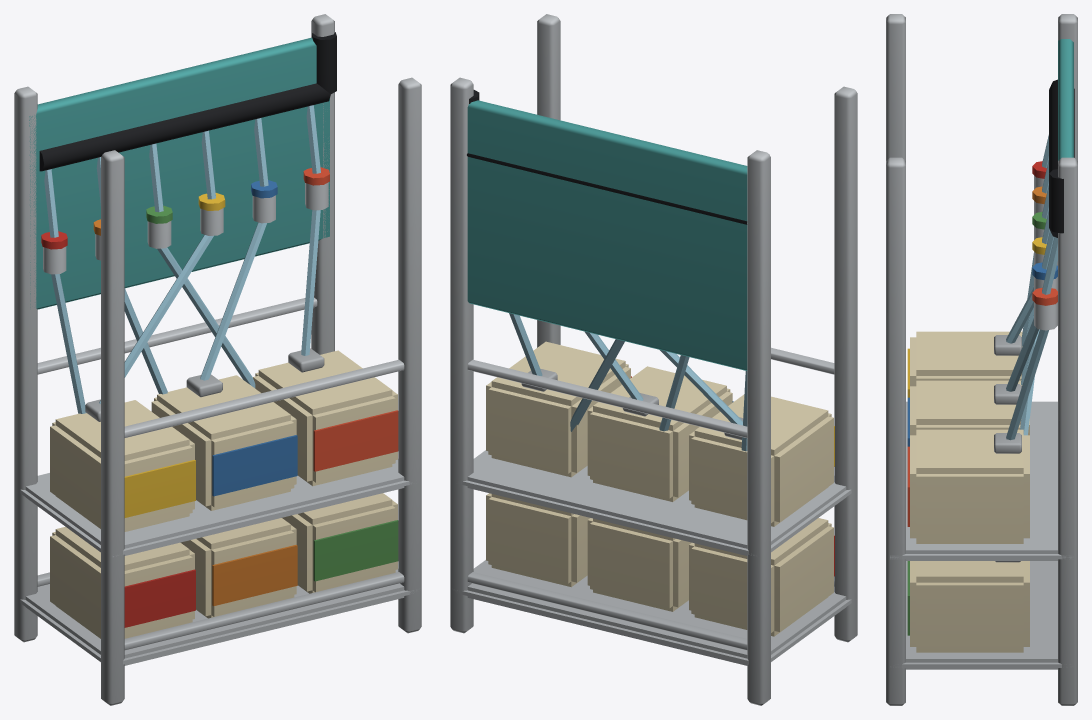
The model's file is SM_BagInBox_Rack_01.glb.
3 views of the same model, side by side, from view 1: azimuth 30°, elevation 25°; view 2: azimuth 150°, elevation 25°; view 3: azimuth 270°, elevation 25° (orthographic).
Visible parts, largest first — view 1: SM_BagInBox_Rack_01; view 2: SM_BagInBox_Rack_01; view 3: SM_BagInBox_Rack_01.
Boxes of the visible parts, x1,y1,x2,y2 form: SM_BagInBox_Rack_01: [14, 14, 421, 705]; SM_BagInBox_Rack_01: [450, 14, 857, 705]; SM_BagInBox_Rack_01: [886, 14, 1077, 705].
Size of the model in its own units: 0.902 by 1.5 by 0.48.
1 material, 1 textured.
